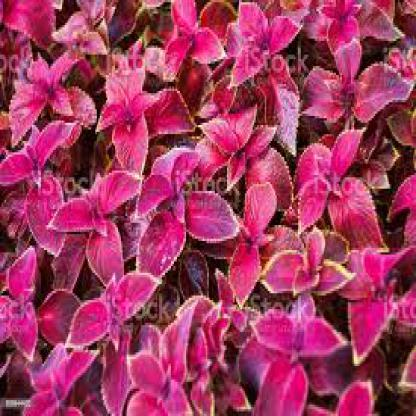Bunga Coleus: (7, 8, 406, 374)
